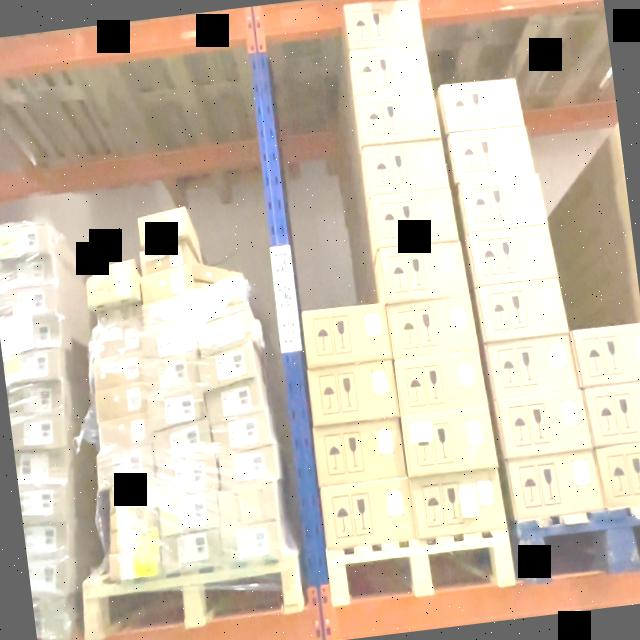box: (319, 477, 416, 551), (402, 406, 498, 477), (494, 390, 591, 460), (505, 450, 602, 519), (312, 416, 407, 486), (411, 468, 508, 535), (306, 359, 400, 426), (485, 332, 578, 399), (394, 350, 488, 416), (301, 303, 392, 369), (476, 277, 568, 341), (386, 295, 478, 359), (379, 240, 470, 303), (467, 223, 557, 286), (370, 186, 459, 248), (363, 137, 450, 196), (457, 173, 545, 231), (447, 125, 534, 182), (356, 88, 441, 146), (439, 75, 525, 131), (570, 322, 640, 387), (349, 43, 432, 95), (343, 0, 424, 51), (582, 382, 640, 445), (595, 441, 640, 507), (198, 340, 256, 390), (153, 419, 213, 467), (218, 443, 277, 491), (156, 457, 219, 501), (197, 308, 257, 354), (157, 492, 219, 536), (159, 528, 222, 571), (146, 386, 205, 431), (211, 409, 272, 452), (96, 444, 154, 489), (222, 519, 285, 560), (206, 377, 265, 420), (217, 483, 278, 524), (140, 323, 199, 363), (143, 353, 201, 393), (95, 382, 146, 421), (140, 265, 189, 305), (93, 349, 142, 389), (100, 410, 149, 449), (86, 268, 137, 305), (90, 324, 143, 359), (195, 279, 246, 315), (138, 207, 188, 242), (109, 480, 159, 514), (142, 293, 193, 325), (139, 241, 188, 274), (110, 550, 162, 581), (109, 526, 160, 554), (96, 303, 142, 330), (110, 511, 158, 530), (193, 265, 242, 282), (91, 259, 135, 276)
